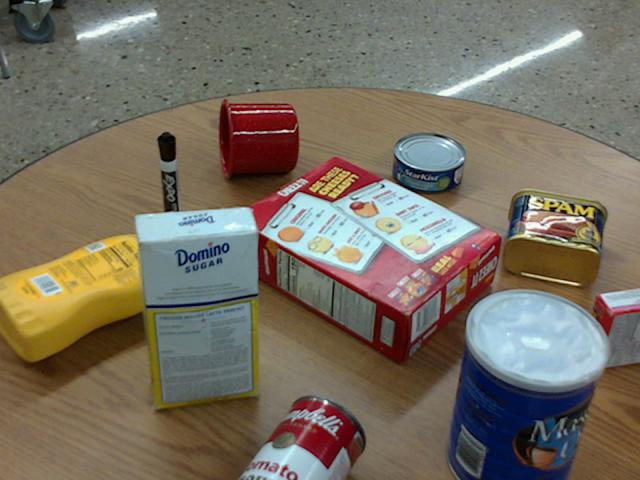cracker_box: (233, 156, 499, 358)
gelatin_box: (580, 287, 639, 369)
large_marker: (158, 132, 181, 235)
master_chef_can: (446, 289, 607, 479)
mug: (218, 99, 299, 179)
mustard_bottle: (0, 235, 191, 360)
potted_meat_can: (503, 187, 607, 286)
sugar_box: (134, 207, 256, 406)
tomato_soup_can: (239, 394, 366, 479)
tuna_fish_can: (393, 132, 466, 192)
